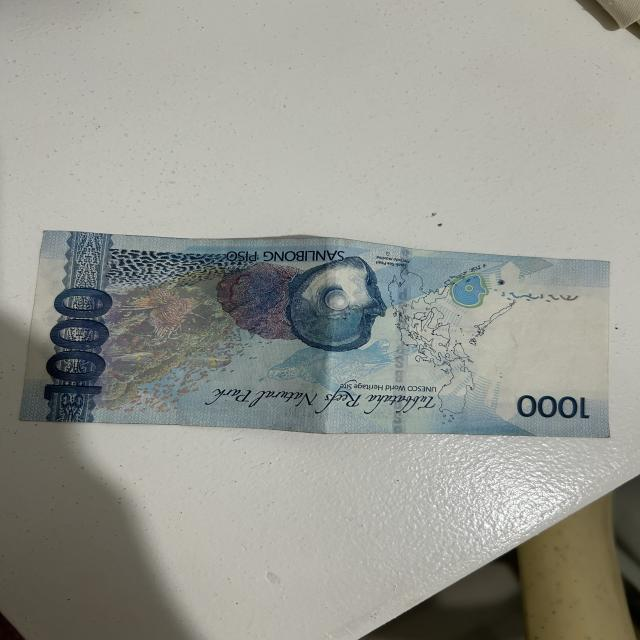1000_pearl: (282, 255, 394, 352)
1000_pearl_watermark: (449, 269, 497, 312)
